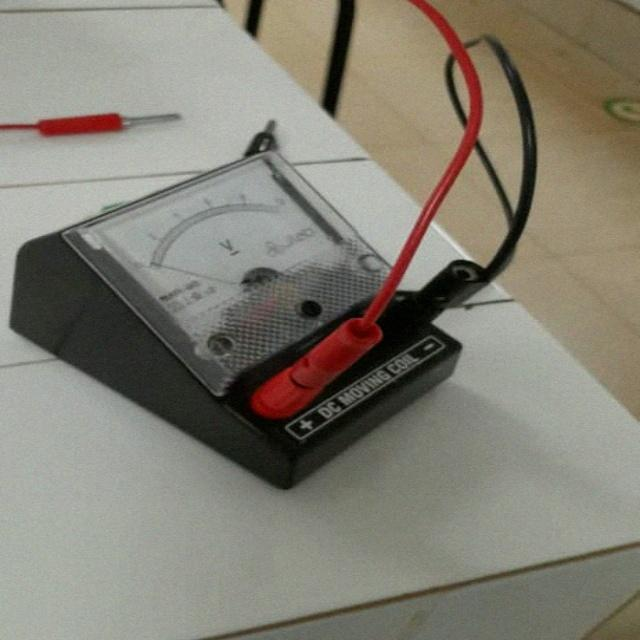Voltmeter: (8, 113, 584, 500)
